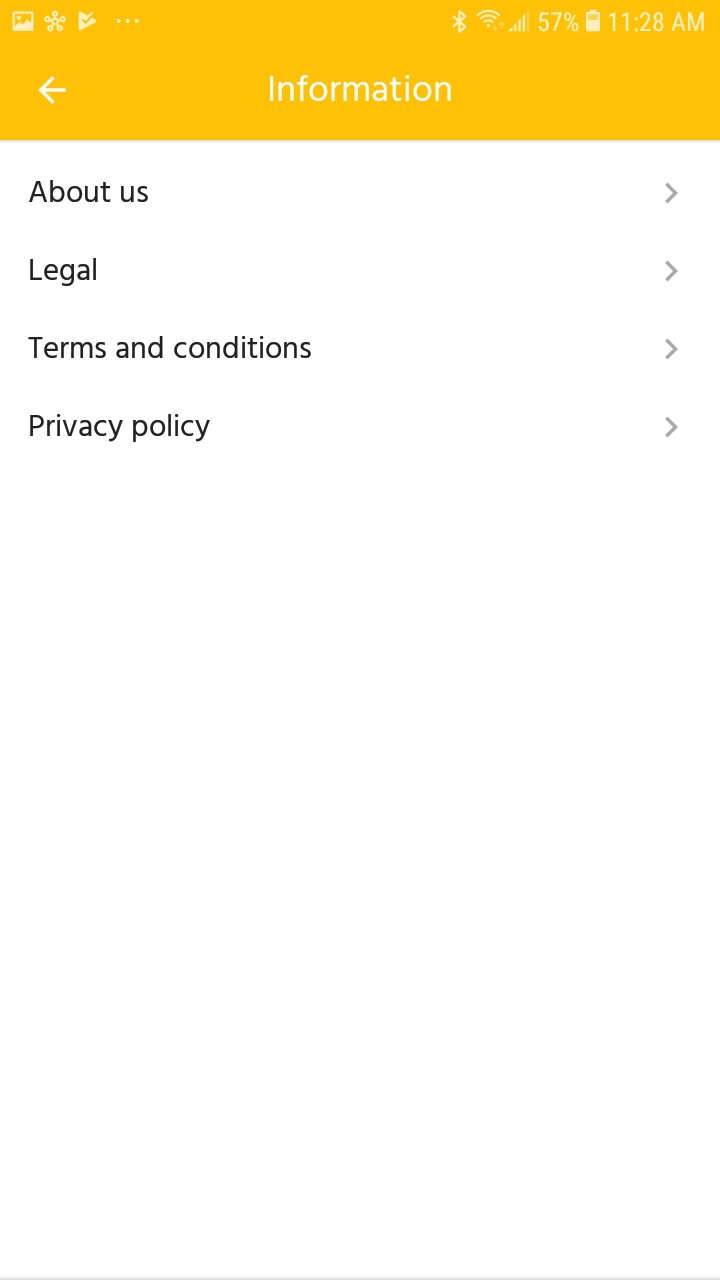Icon: (38, 76, 67, 105), (664, 260, 679, 282), (665, 183, 679, 205), (665, 339, 679, 361), (664, 416, 678, 438)
Text: (28, 336, 312, 360), (30, 413, 211, 443), (270, 75, 453, 103), (30, 180, 150, 204), (30, 259, 97, 288)
UpperTaskBar: (1, 1, 720, 36)
